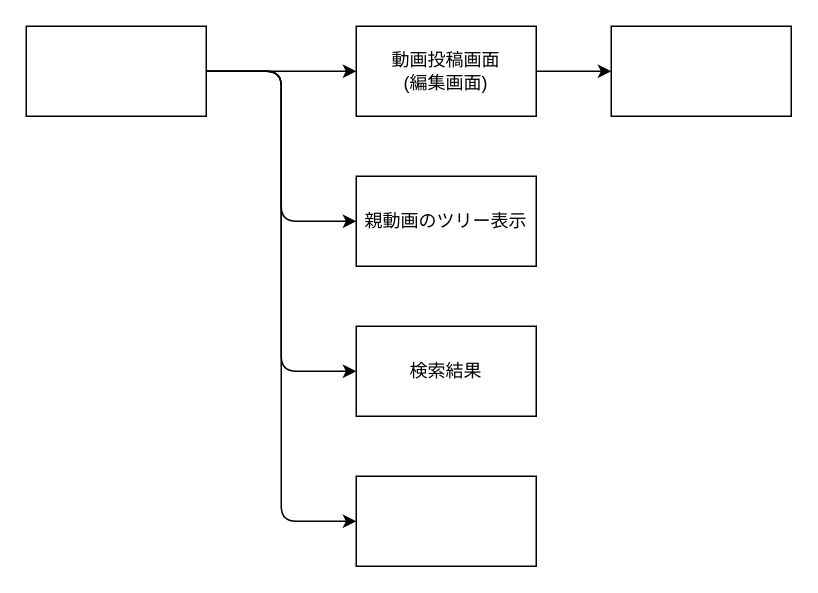
The diagram is 818 pixels wide and 593 high, and some of its shapes have lost their labels. Here are the shapes that lost their labels. From the top down, the box of each, then its label:
(25, 25, 206, 116): 動画再生(tiktok風)
(610, 25, 791, 116): 動画の確認
